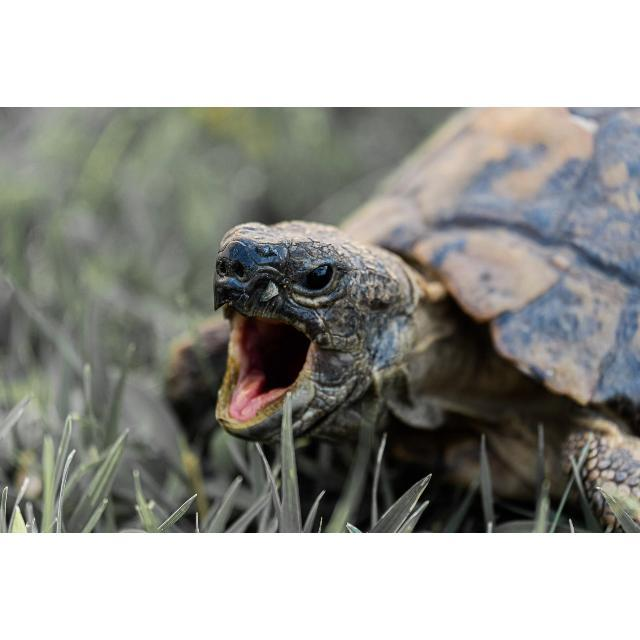turtle: (162, 110, 639, 528)
